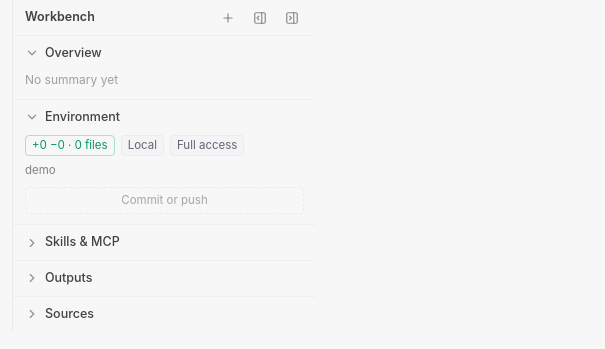
SessionWorkbench embedded StartDock › embedded variant renders inside the workbench without the rail collapse button
Click the button named "Expand sidebar tools". click: (260, 18)
box: [248, 6, 272, 30]
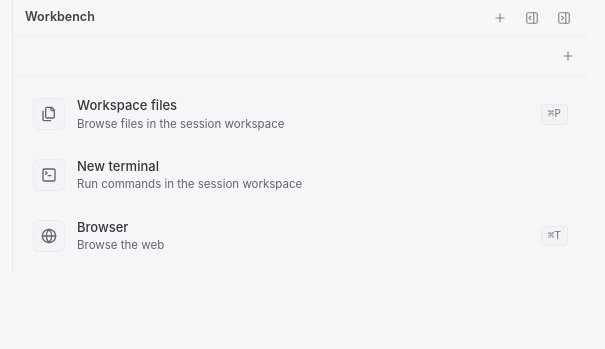
Expected: the button named "Collapse workbench" is shown, [552, 6, 576, 30]
Expected: the element with test id "start-dock" is shown
